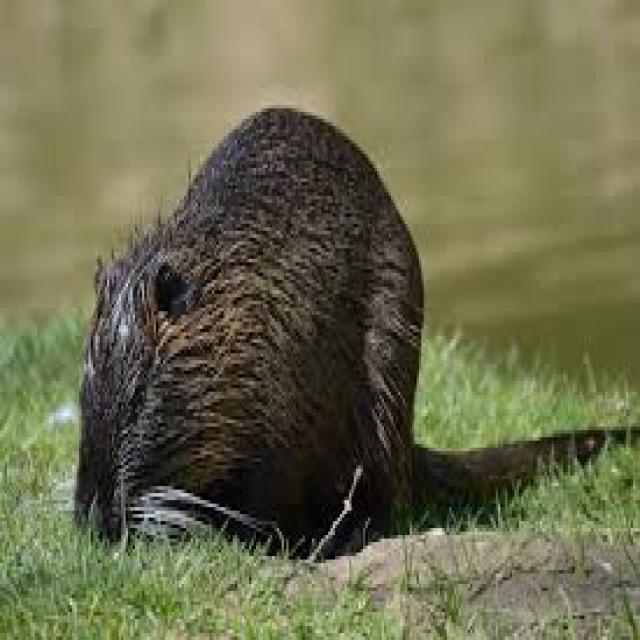rat: (70, 101, 617, 560)
